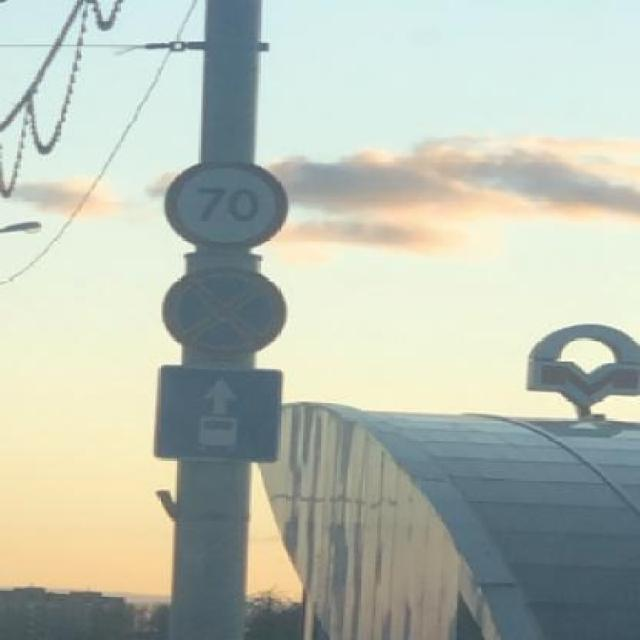forb_speed_over_70: (164, 156, 287, 250)
